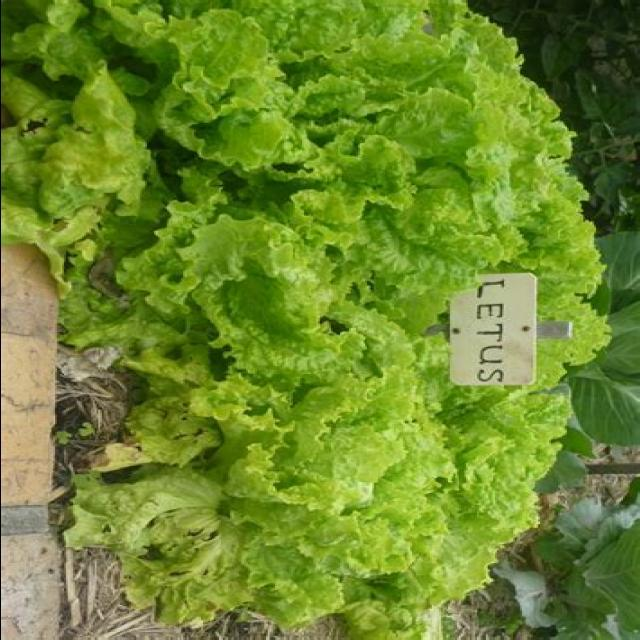Lettuce: (0, 0, 607, 627)
